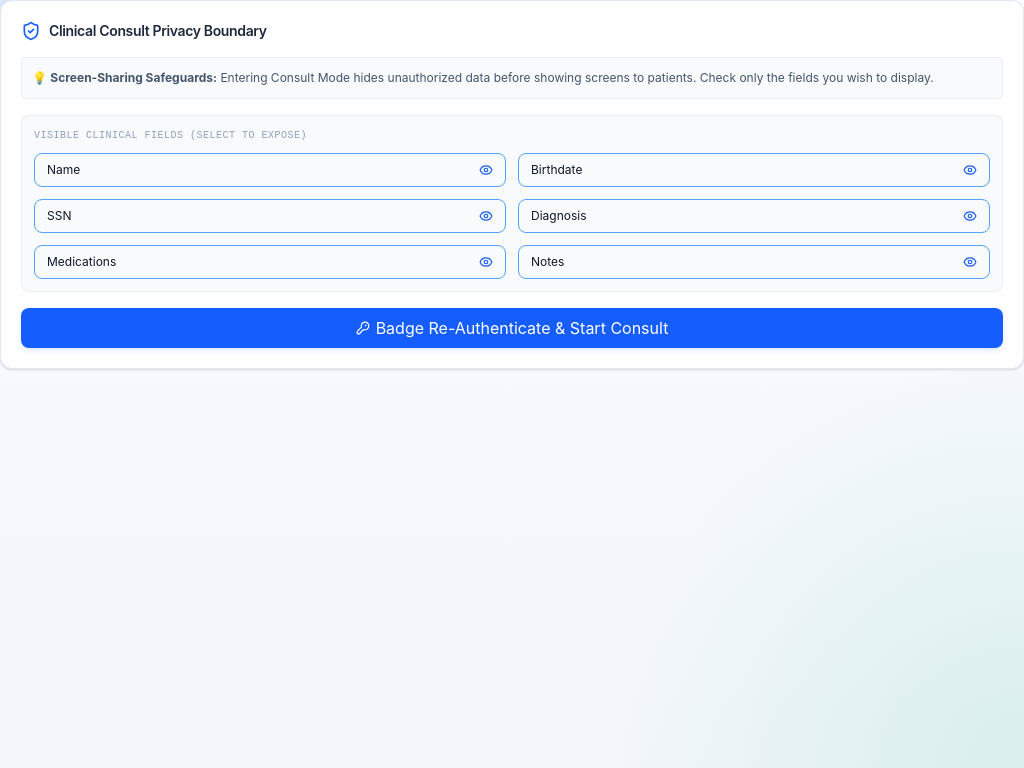
Test: ConsultModeManager › disables the confirm button until four digits are entered and strips non-digits
The image size is (1024, 768).
Click the button "Badge Re-Authenticate & Start Consult" at x=512, y=328, box left=21, top=308, right=1003, bottom=348
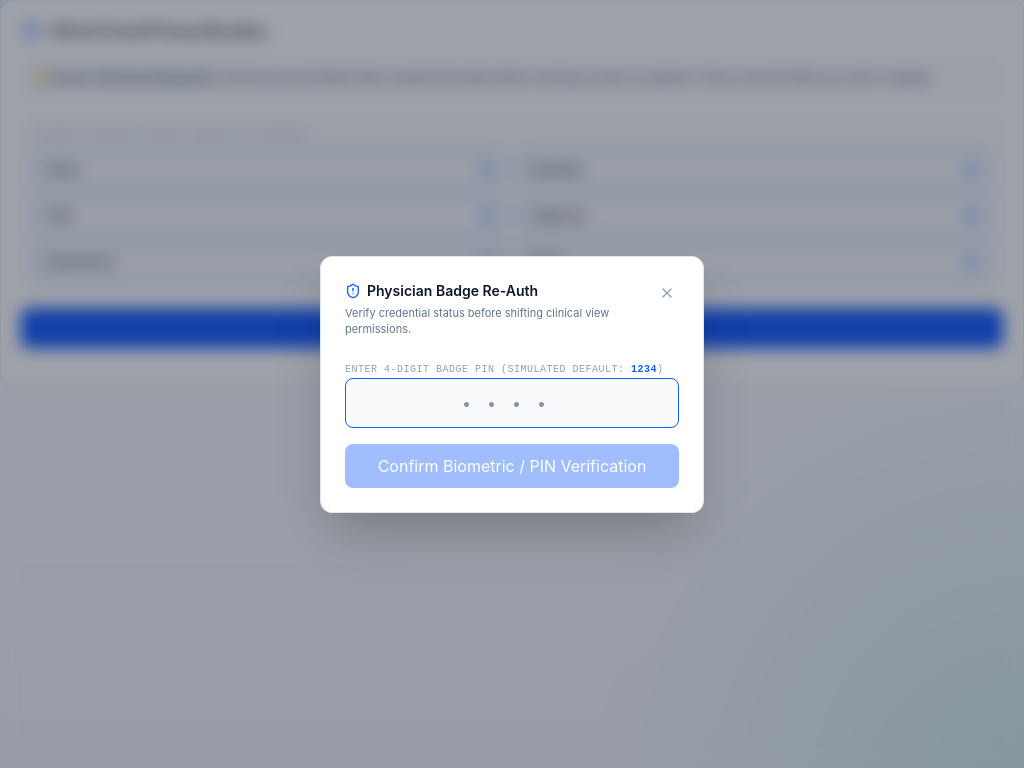
Expected: the button "Confirm Biometric / PIN Verification" is disabled, left=345, top=444, right=679, bottom=488
Type "12ab34" into the password field with placeholder "••••" at x=512, y=402, box left=345, top=378, right=679, bottom=428
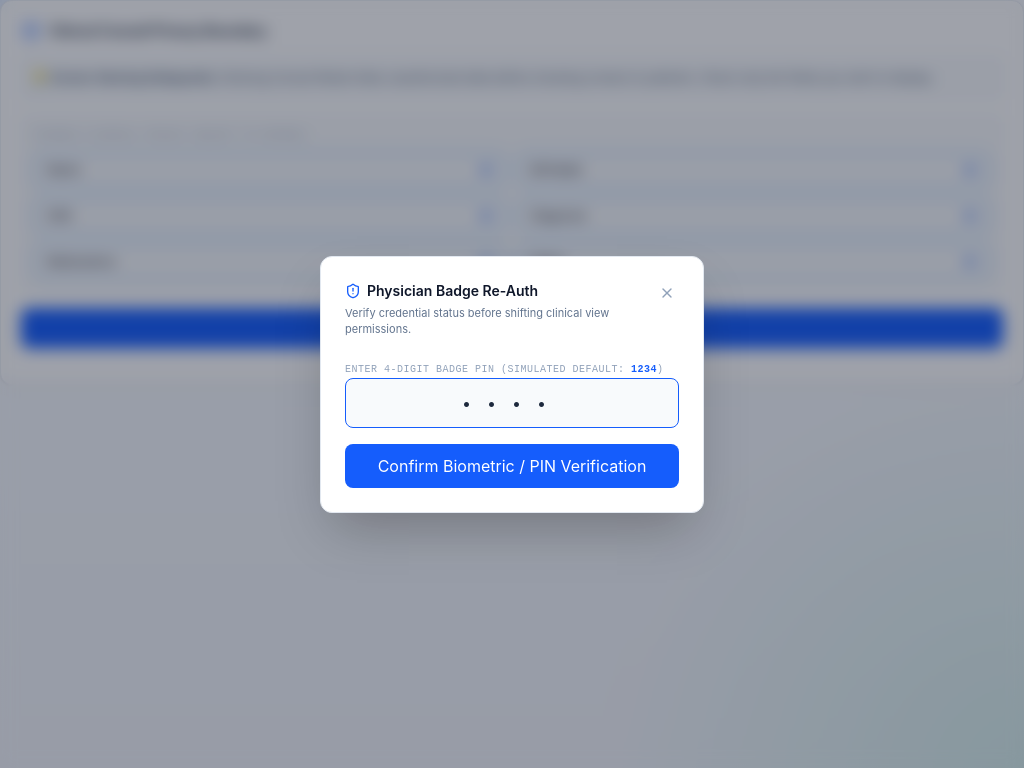
Expected: the password field with placeholder "••••" holds "1234", left=345, top=378, right=679, bottom=428
Expected: the button "Confirm Biometric / PIN Verification" is enabled, left=345, top=444, right=679, bottom=488
